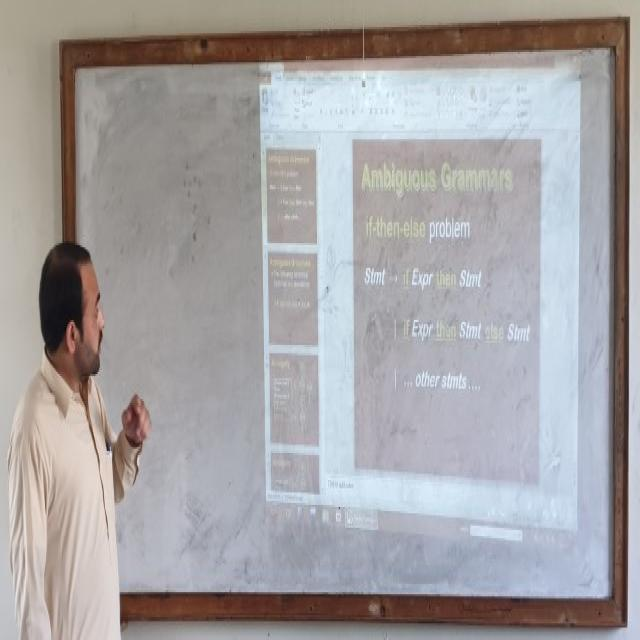Instructor: (21, 222, 126, 640)
Slide: (256, 46, 579, 558)
White-board: (68, 33, 624, 612)
